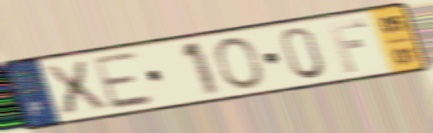0: (280, 26, 327, 81)
1: (181, 39, 222, 98)
E: (89, 50, 158, 113)
F: (325, 17, 369, 75)
O: (212, 35, 266, 91)
X: (39, 58, 112, 118)
